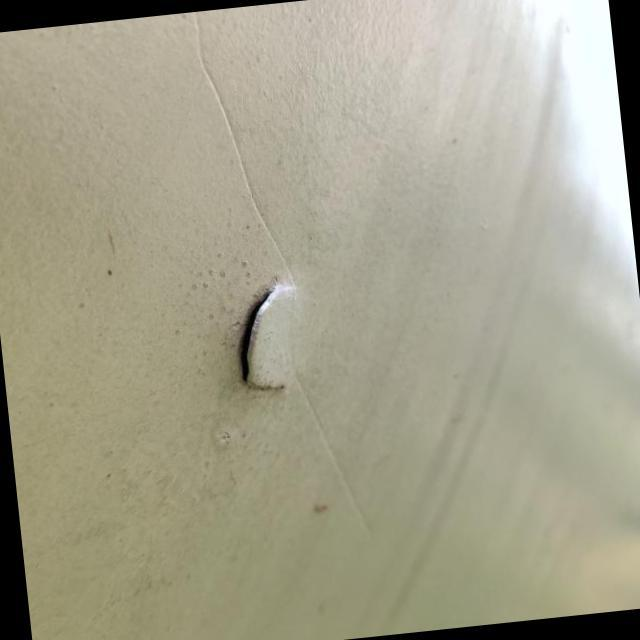Rupture: (200, 256, 330, 412)
